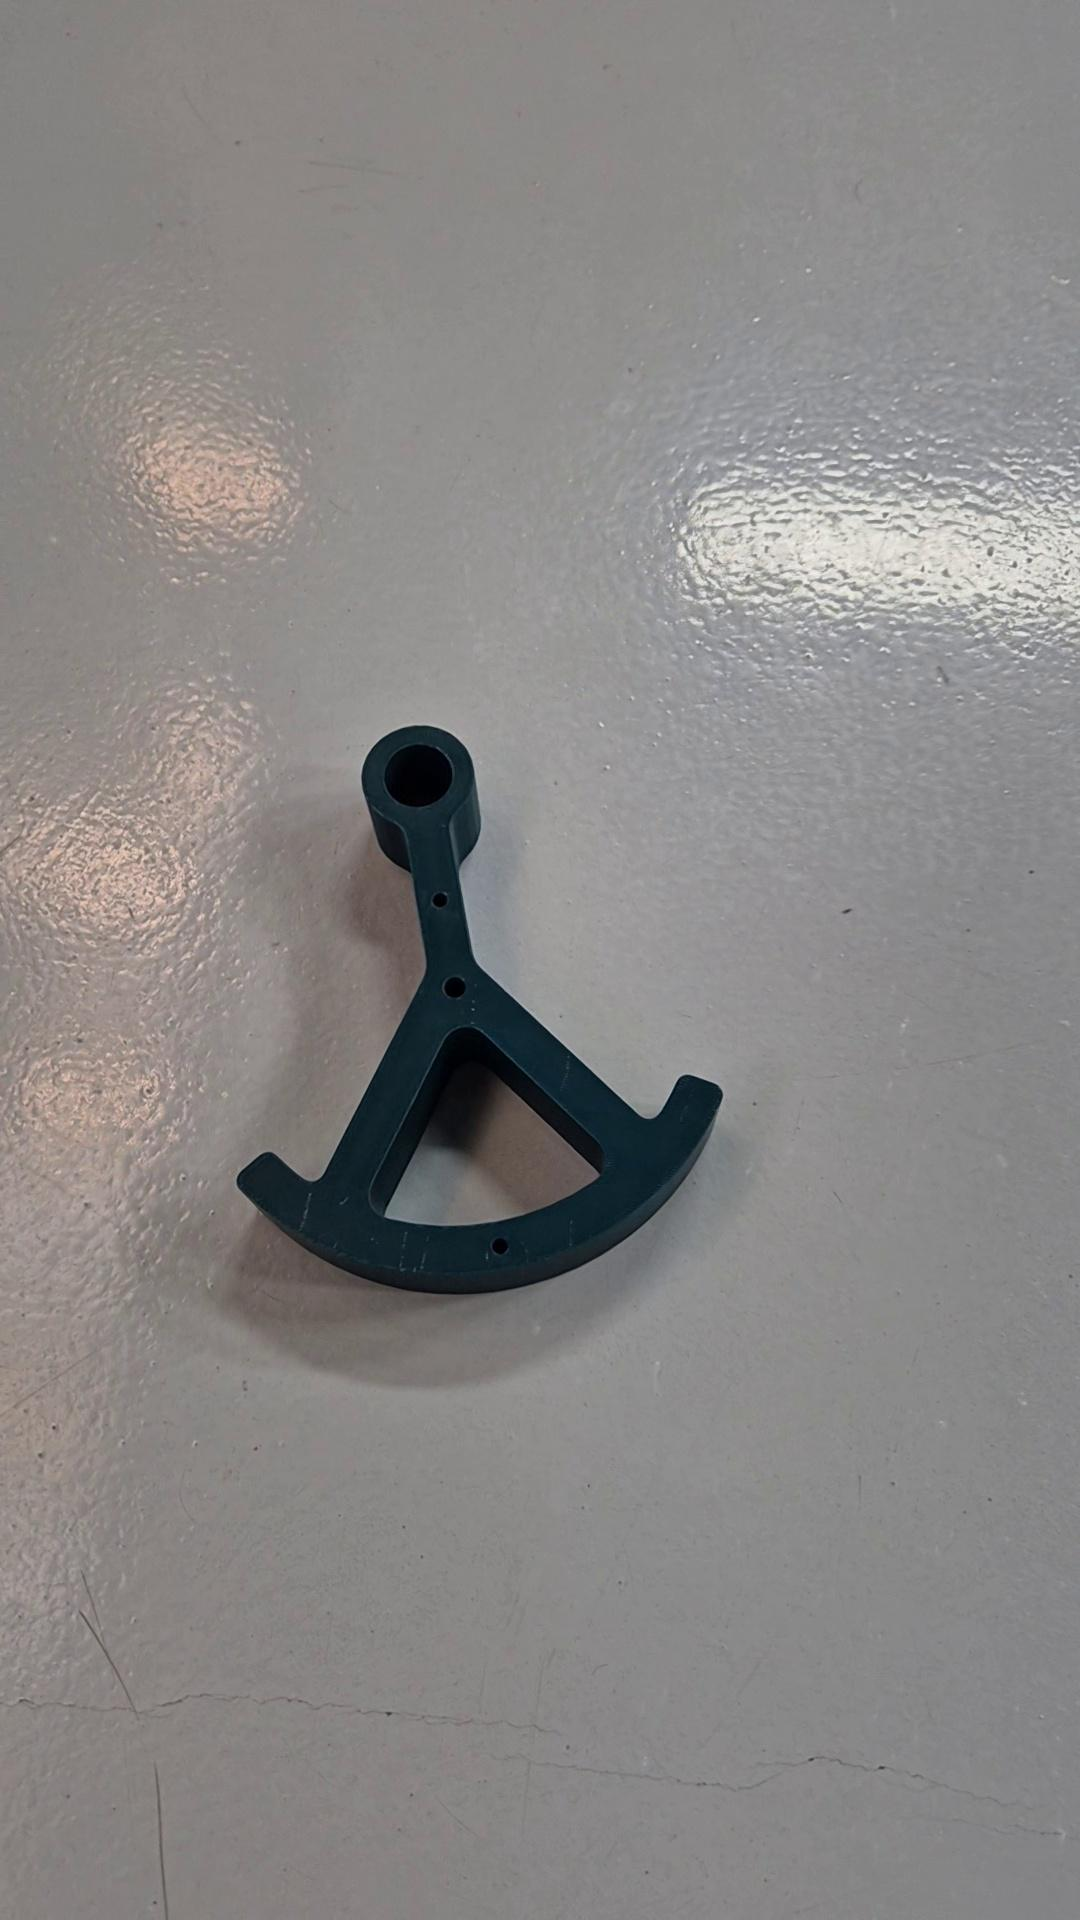Paddles: (231, 720, 728, 1302)
